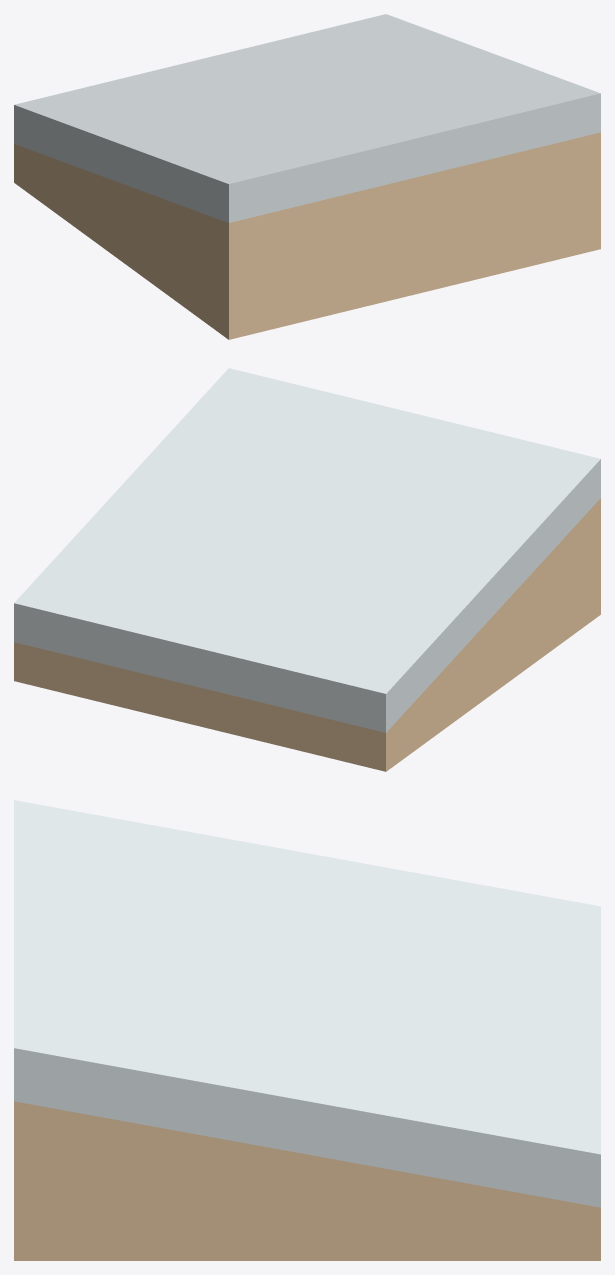
The model's file is snow_tile_slope.glb.
3 renders of one model, top to bottom at view 1: azimuth 30°, elevation 25°; view 2: azimuth 150°, elevation 25°; view 3: azimuth 270°, elevation 25°, orthographic. The views are drawn at different scales.
Parts seen in each view (by area): view 1: snow_tile_slope; view 2: snow_tile_slope; view 3: snow_tile_slope.
Part boxes in pixels (bbox=[...]): snow_tile_slope: bbox=[14, 14, 600, 339]; snow_tile_slope: bbox=[14, 368, 600, 771]; snow_tile_slope: bbox=[14, 800, 600, 1260].
Size of the model in its own units: 1 by 0.4 by 1.
